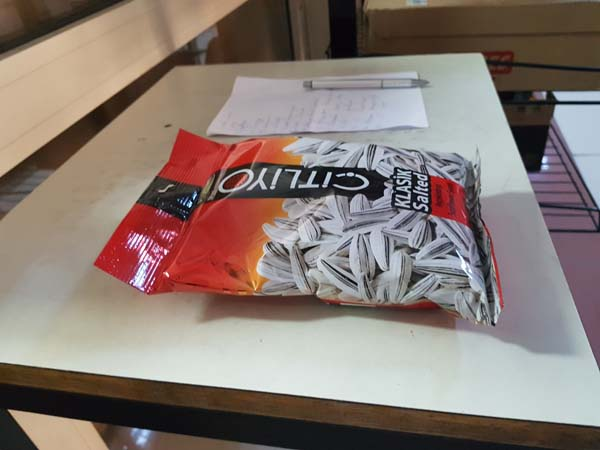citliyorklasik: (81, 122, 518, 336)
